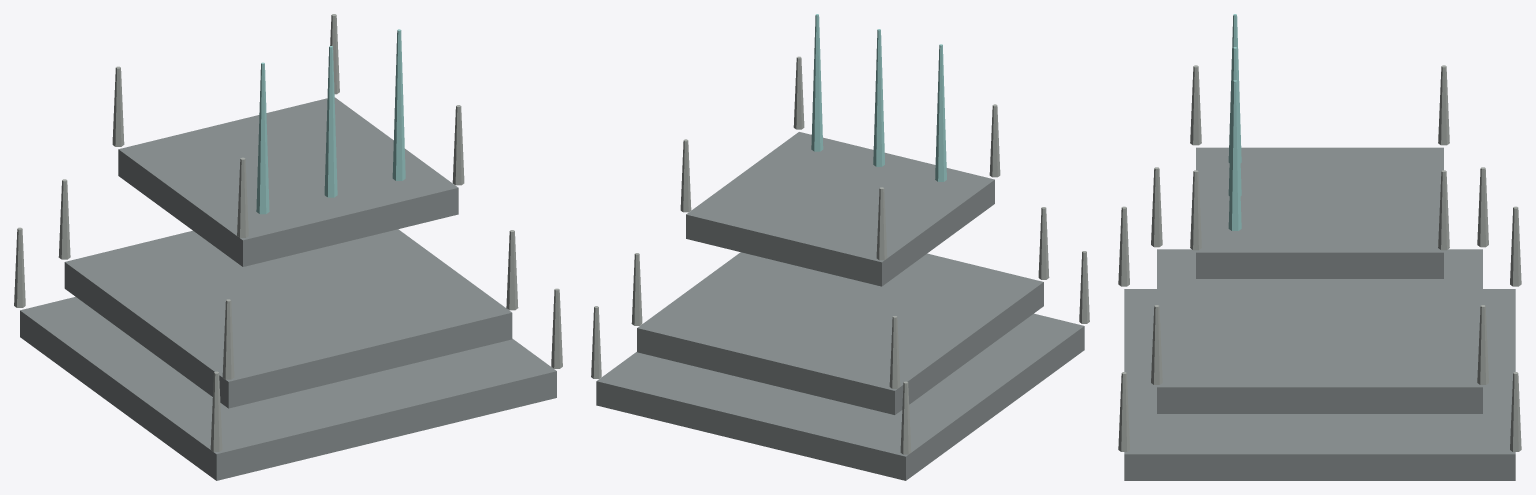
The model's file is SM_ENV_Building_19_FloatingPlatform.glb.
3 views of the same model, side by side, from view 1: azimuth 30°, elevation 25°; view 2: azimuth 150°, elevation 25°; view 3: azimuth 270°, elevation 25° (orthographic). The views are drawn at different scales.
Visible parts, largest first — view 1: SM_ENV_Building_19_FloatingPlatform; view 2: SM_ENV_Building_19_FloatingPlatform; view 3: SM_ENV_Building_19_FloatingPlatform.
Boxes of the visible parts, x1=… form: SM_ENV_Building_19_FloatingPlatform: x1=14, y1=14, x2=562, y2=480; SM_ENV_Building_19_FloatingPlatform: x1=591, y1=14, x2=1089, y2=480; SM_ENV_Building_19_FloatingPlatform: x1=1118, y1=14, x2=1521, y2=480.
Bounding box in the file's own units: 6.16 × 5.92 × 6.18.
